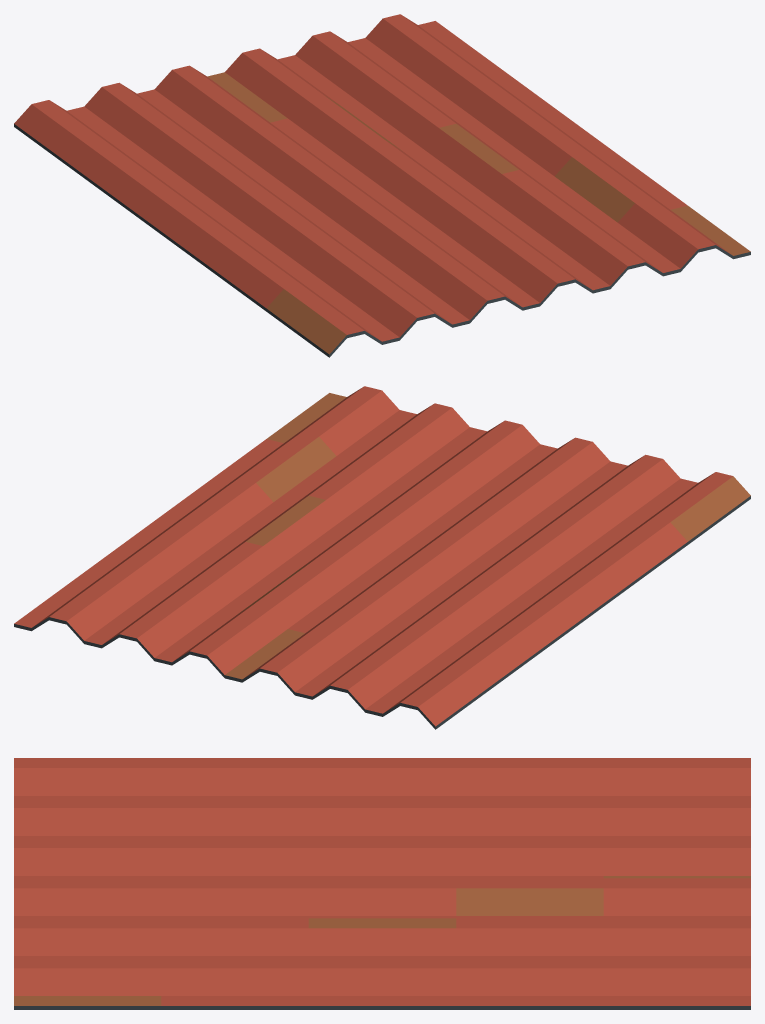
Rendered from Sheet_Red.glb.
The picture shows the model from 3 angles, top to bottom: view 1: azimuth 30°, elevation 25°; view 2: azimuth 150°, elevation 25°; view 3: azimuth 270°, elevation 25°; orthographic projection. The views are drawn at different scales.
Visible parts, largest first — view 1: Sheet_Red; view 2: Sheet_Red; view 3: Sheet_Red.
Part boxes in pixels (x1=…): Sheet_Red: x1=14, y1=14, x2=750, y2=357; Sheet_Red: x1=14, y1=386, x2=750, y2=729; Sheet_Red: x1=14, y1=758, x2=750, y2=1009.
Bounding box in the file's own units: 0.81 × 0.034 × 1.05.
